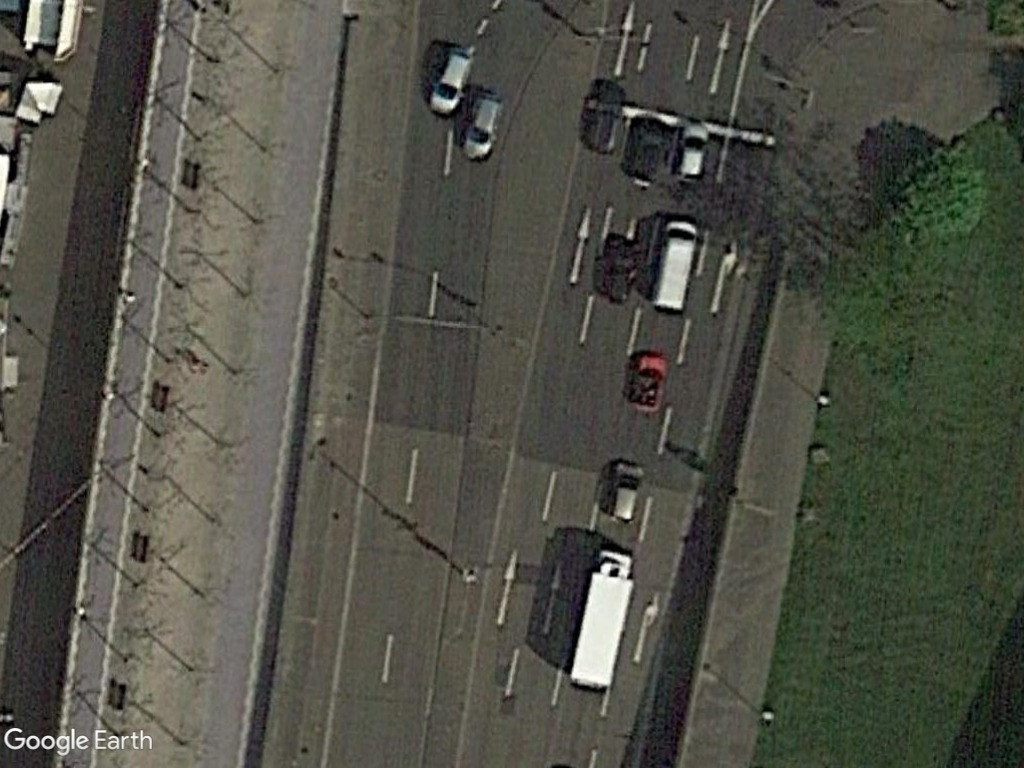car: (456, 84, 502, 166), (426, 45, 472, 118), (671, 120, 716, 187), (605, 456, 644, 527)
truck: (561, 544, 639, 688)
van: (646, 211, 704, 318)
